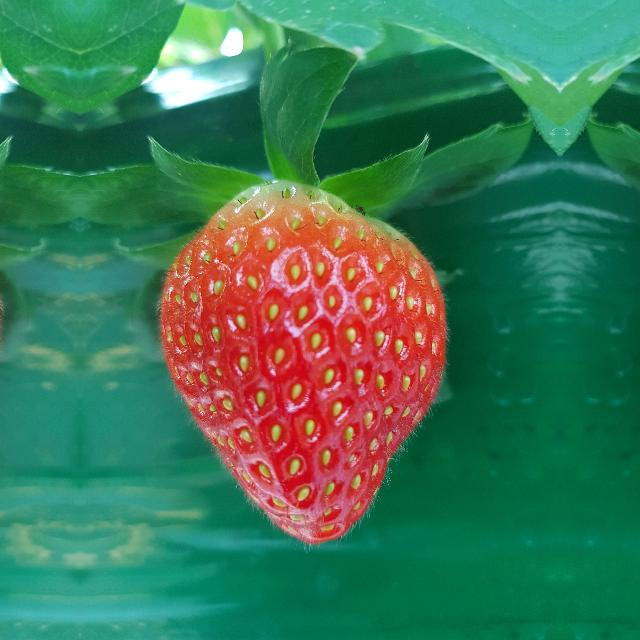Health_100: (158, 179, 450, 547)
